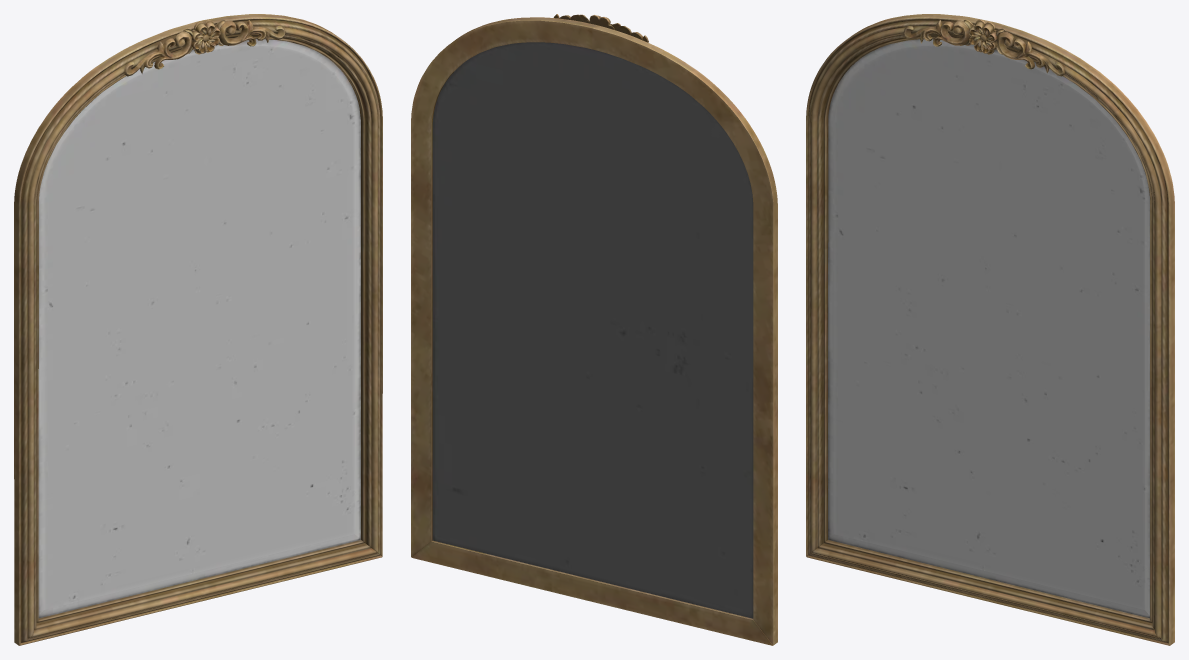
The model's file is ornate_mirror_01.glb.
3 views of the same model, side by side, from view 1: azimuth 30°, elevation 25°; view 2: azimuth 150°, elevation 25°; view 3: azimuth 330°, elevation 25° (orthographic).
Parts seen in each view (by area): view 1: ornate_mirror_01; view 2: ornate_mirror_01; view 3: ornate_mirror_01.
Part boxes in pixels (x1,y1,x2,y2): ornate_mirror_01: (14, 14, 382, 645); ornate_mirror_01: (411, 14, 777, 645); ornate_mirror_01: (806, 14, 1174, 645).
Bounding box in the file's own units: 0.4865 × 0.7442 × 0.026.
Materials: 1 (1 with a texture image).
